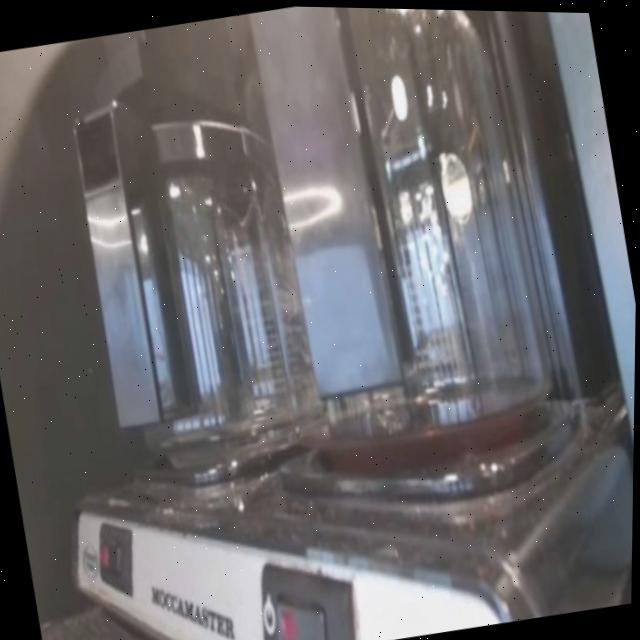nocoffee: (227, 5, 573, 494), (68, 147, 307, 515)
